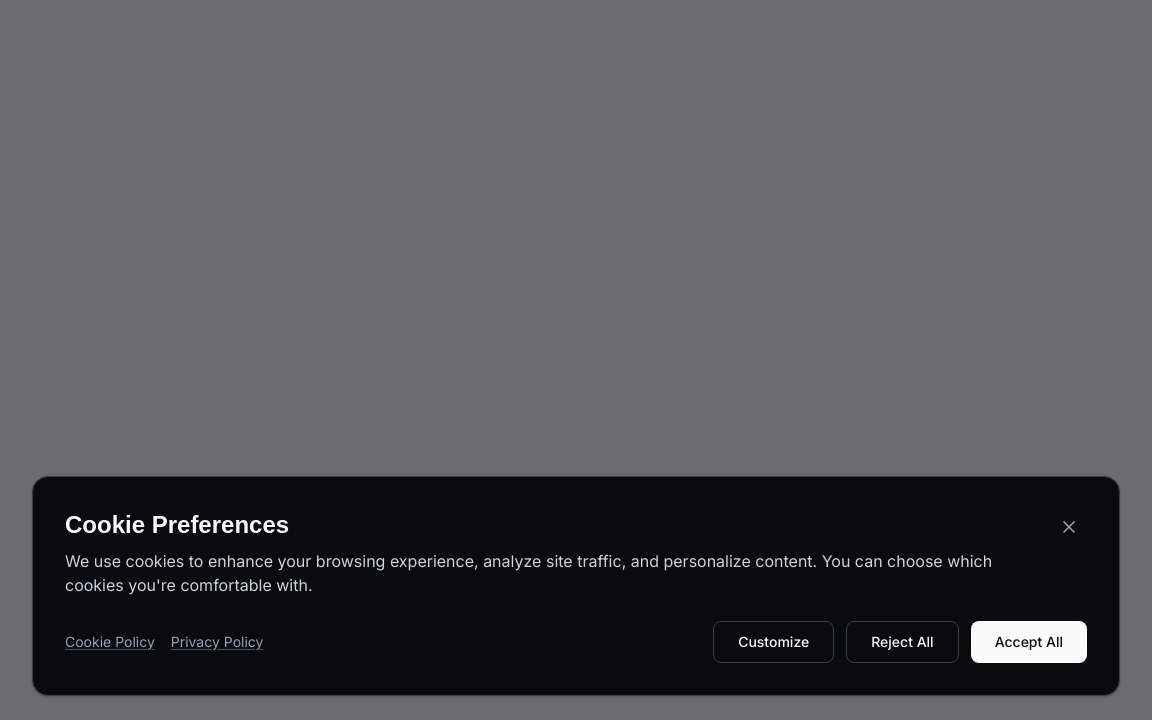
Scenario: CookieConsent Component › Customize Functionality › should show customization panel when Customize is clicked
Click the button "Customize". click: point(774, 642)
box: [713, 621, 834, 663]
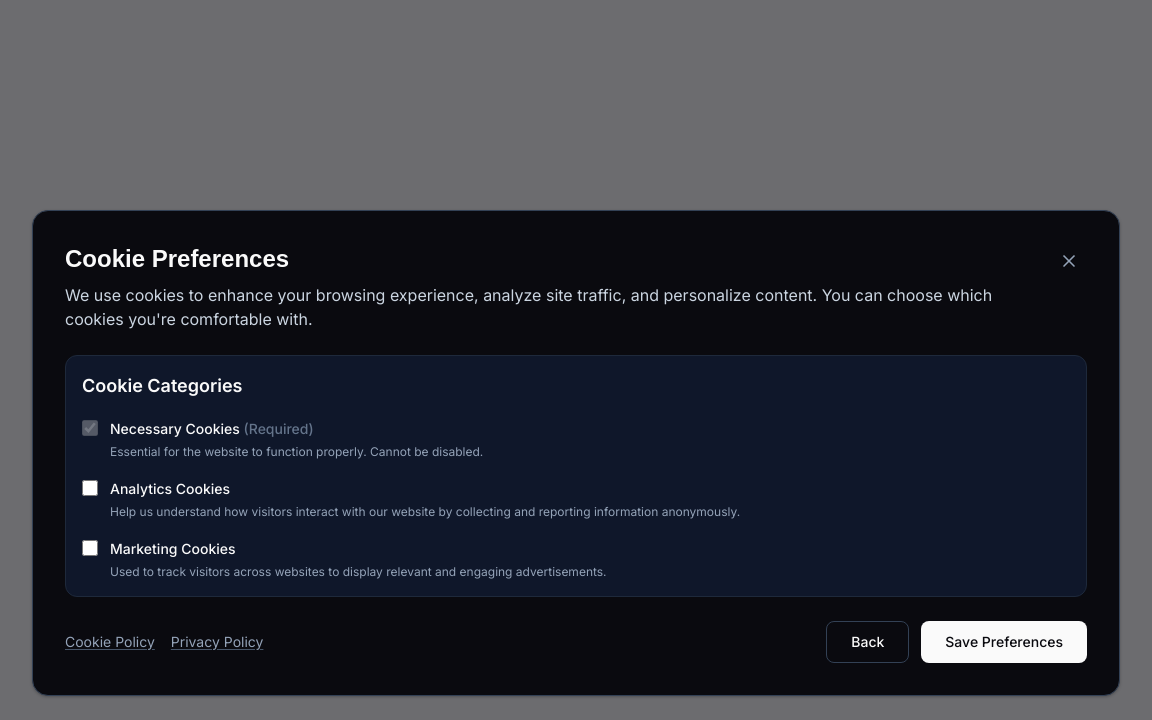
Expected: the heading "Cookie Categories" is shown, [82, 375, 242, 396]
